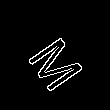M_NE: (18, 22, 87, 89)
